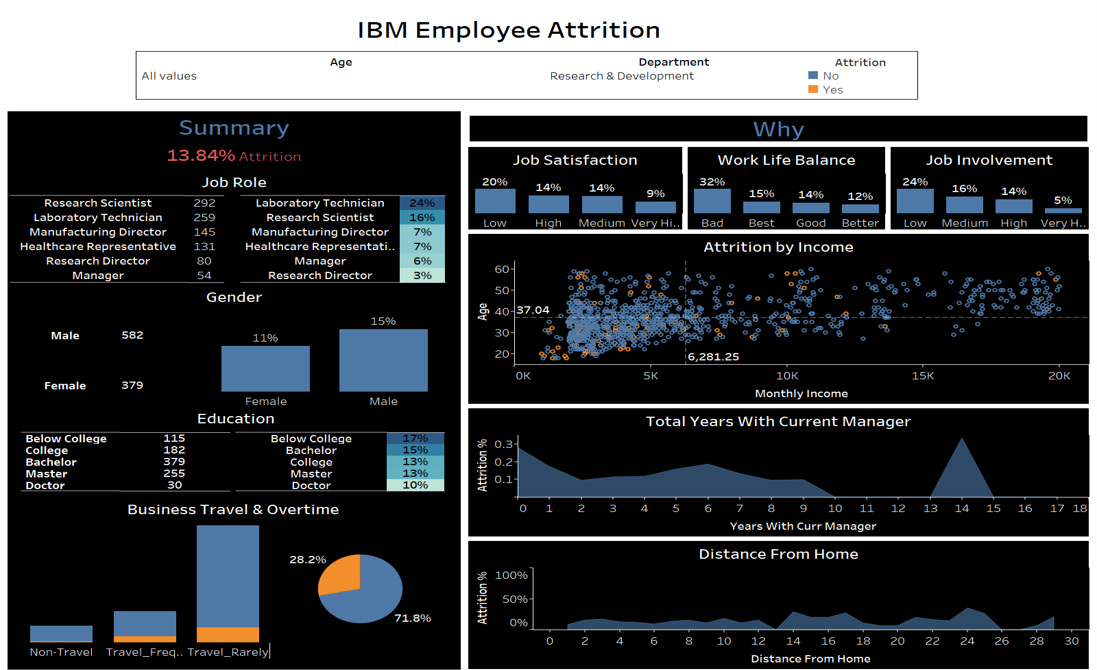

Layout of this report page (visuals, bound fields, positions):
{"tool":"tableau","page":{"name":"Dashboard 1","canvas":[1600,1200],"ordinal":0},"visuals":[{"type":"worksheet","box":[141.3,9,1201.3,81]},{"type":"worksheet","param":"horz","box":[198,90,1141,87]},{"type":"worksheet","title":"Business Travel","mark":"Automatic","rows":["Attrition"],"cols":["BusinessTravel"],"param":"[federated.1jnc9vn1a94fts0zryf5q102buwb].[none:Age:qk]","box":[199,91,597,85]},{"type":"worksheet","title":"Business Travel","mark":"Automatic","rows":["Attrition"],"cols":["BusinessTravel"],"param":"[federated.1jnc9vn1a94fts0zryf5q102buwb].[none:Department:nk]","box":[796,91,374,85]},{"type":"worksheet","title":"Attrition by Income","mark":"Shape","rows":["Age"],"cols":["MonthlyIncome"],"param":"[federated.1jnc9vn1a94fts0zryf5q102buwb].[none:Attrition:nk]","box":[1170,91,168,85]},{"type":"worksheet","box":[11,198,661,55]},{"type":"worksheet","param":"vert","box":[679,200,913,1003]},{"type":"worksheet","box":[679,200,913,58]},{"type":"worksheet","box":[41.3,235.5,516,70.5]},{"type":"worksheet","title":"Overall Attrition","mark":"Automatic","rows":["Attrition"],"box":[11,253,661,51]},{"type":"worksheet","param":"horz","box":[679,258,913,156]},{"type":"worksheet","title":"Job Satisfaction","mark":"Automatic","rows":["Attrition (copy)_2380715363319349248"],"cols":["JobSatisfaction"],"box":[679,258,320,156]},{"type":"worksheet","title":"Work Life Balance","mark":"Automatic","rows":["Attrition (copy)_2380715363319349248"],"cols":["WorkLifeBalance"],"box":[999,258,296.4,156]},{"type":"worksheet","title":"Job Involvement","mark":"Automatic","rows":["Attrition (copy)_2380715363319349248"],"cols":["JobInvolvement"],"box":[1295.5,258,296.4,156]},{"type":"worksheet","box":[11,304,661,41]},{"type":"worksheet","param":"horz","box":[11,345,661,165]},{"type":"worksheet","title":"Job Role","mark":"Automatic","rows":["JobRole"],"box":[11,345,336,165]},{"type":"worksheet","title":"Job Role Attrition","mark":"Square","rows":["JobRole"],"box":[347,345,325,165]},{"type":"worksheet","title":"Attrition by Income","mark":"Shape","rows":["Age"],"cols":["MonthlyIncome"],"box":[679,414,913,313]},{"type":"worksheet","box":[11,510,661,41]},{"type":"worksheet","title":"Gender","mark":"Automatic","rows":["Gender"],"box":[55,554,198,181]},{"type":"worksheet","title":"Gender Attrition","mark":"Automatic","rows":["Attrition (copy)_2380715363319349248"],"cols":["Gender"],"box":[302,558,343,172]},{"type":"worksheet","box":[13,715,662,66]},{"type":"worksheet","param":"vert","box":[679,727,913,476]},{"type":"worksheet","title":"Total Years With Current Manager","mark":"Area","rows":["Attrition (copy)_2380715363319349248"],"cols":["YearsWithCurrManager"],"box":[679,727,913,238]},{"type":"worksheet","param":"horz","box":[27,770,626,114]},{"type":"worksheet","title":"Education","mark":"Automatic","rows":["Education"],"box":[27,770,313,114]},{"type":"worksheet","title":"Education Attrition","mark":"Square","rows":["Education"],"box":[340,770,313,114]},{"type":"worksheet","box":[23,890,634,43]},{"type":"worksheet","param":"horz","box":[25,926,628,258]},{"type":"worksheet","title":"Business Travel","mark":"Automatic","rows":["Attrition"],"cols":["BusinessTravel"],"box":[25,926,373,258]},{"type":"worksheet","title":"Employee by Overtime","mark":"Pie","box":[398,926,255,258]},{"type":"worksheet","title":"Distance From Home","mark":"Area","rows":["Attrition (copy)_2380715363319349248"],"cols":["DistanceFromHome"],"box":[679,965,913,238]}]}

Visuals, with their boxes in screenshot pixels (x1, y1, x2, y2):
worksheet: BBox(167, 8, 829, 53)
worksheet: BBox(198, 53, 827, 101)
"Business Travel" worksheet: BBox(198, 53, 528, 100)
"Business Travel" worksheet: BBox(528, 53, 734, 100)
"Attrition by Income" worksheet (Shape marks): BBox(734, 53, 827, 100)
worksheet: BBox(95, 112, 459, 142)
worksheet: BBox(463, 113, 967, 667)
worksheet: BBox(463, 113, 967, 145)
worksheet: BBox(111, 133, 396, 172)
"Overall Attrition" worksheet: BBox(95, 142, 459, 171)
worksheet: BBox(463, 145, 967, 231)
"Job Satisfaction" worksheet: BBox(463, 145, 640, 231)
"Work Life Balance" worksheet: BBox(640, 145, 803, 231)
"Job Involvement" worksheet: BBox(803, 145, 967, 231)
worksheet: BBox(95, 171, 459, 193)
worksheet: BBox(95, 193, 459, 284)
"Job Role" worksheet: BBox(95, 193, 280, 284)
"Job Role Attrition" worksheet (Square marks): BBox(280, 193, 459, 284)
"Attrition by Income" worksheet (Shape marks): BBox(463, 231, 967, 404)
worksheet: BBox(95, 284, 459, 307)
"Gender" worksheet: BBox(119, 309, 228, 408)
"Gender Attrition" worksheet: BBox(255, 311, 444, 406)
worksheet: BBox(96, 397, 461, 434)
worksheet: BBox(463, 404, 967, 667)
"Total Years With Current Manager" worksheet (Area marks): BBox(463, 404, 967, 535)
worksheet: BBox(103, 428, 449, 491)
"Education" worksheet: BBox(103, 428, 276, 491)
"Education Attrition" worksheet (Square marks): BBox(276, 428, 449, 491)
worksheet: BBox(101, 494, 451, 518)
worksheet: BBox(102, 514, 449, 656)
"Business Travel" worksheet: BBox(102, 514, 308, 656)
"Employee by Overtime" worksheet (Pie marks): BBox(308, 514, 449, 656)
"Distance From Home" worksheet (Area marks): BBox(463, 535, 967, 667)
